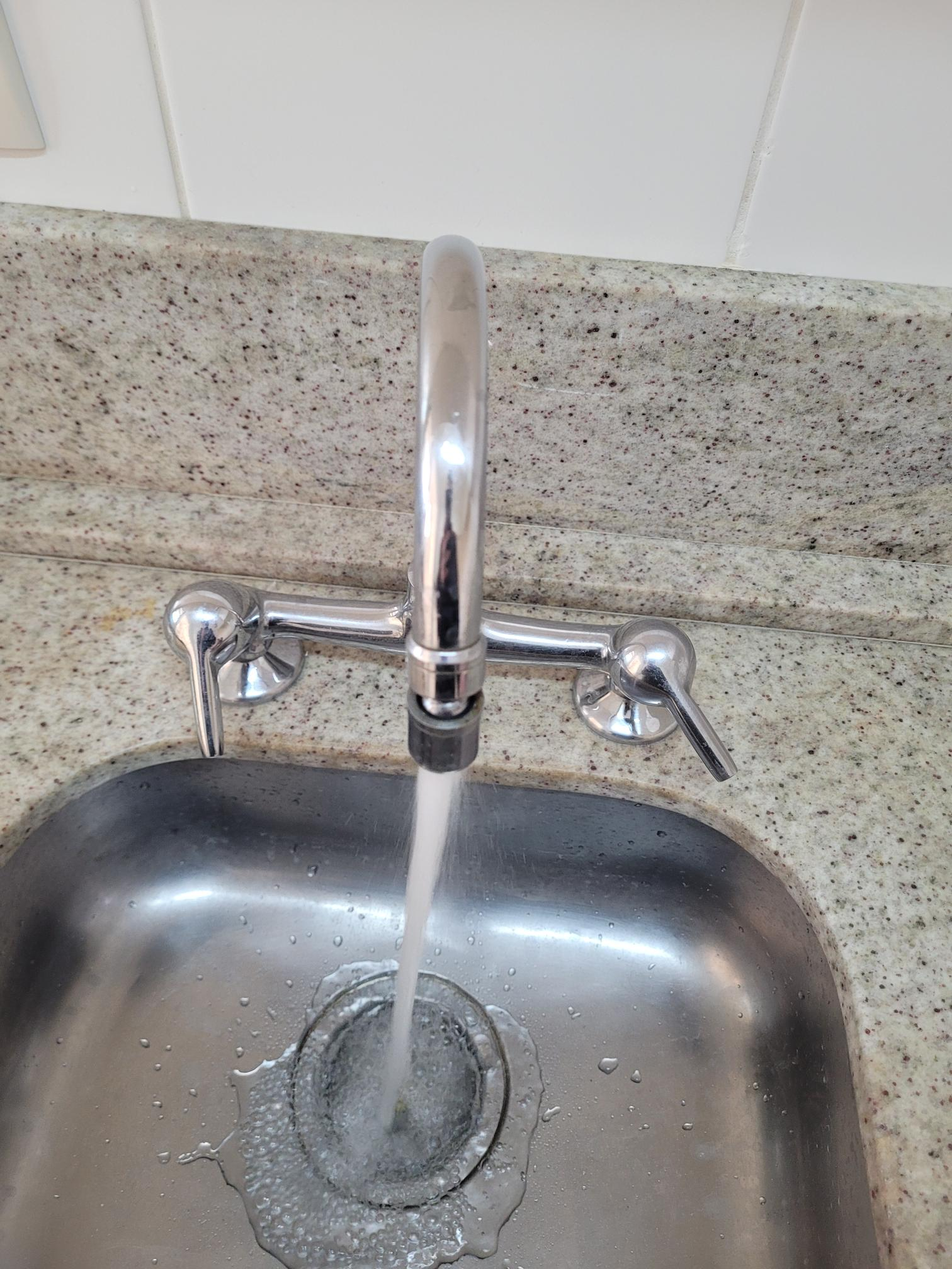torneira_aberta: (87, 206, 764, 1188)
